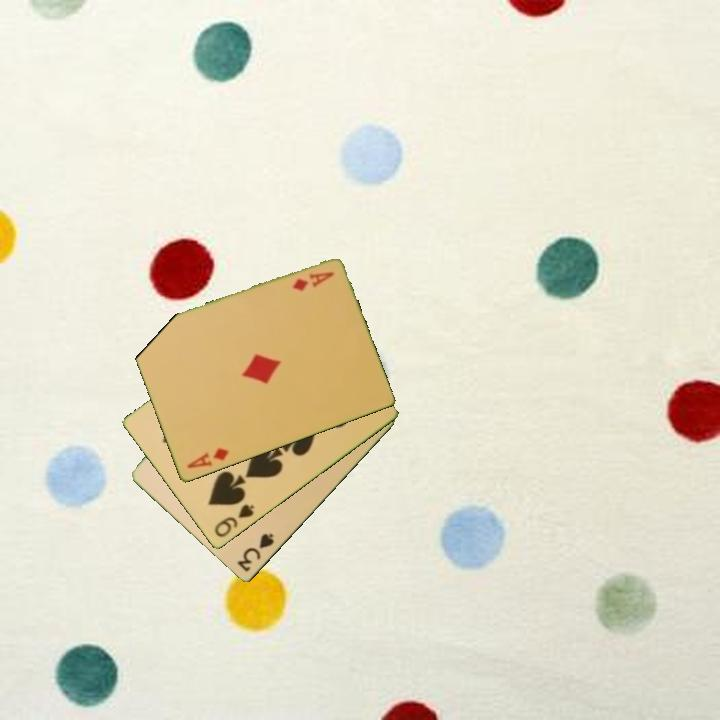3s: (233, 530, 277, 575)
9s: (211, 501, 257, 541)
Ad: (183, 445, 231, 472), (289, 269, 337, 295)
